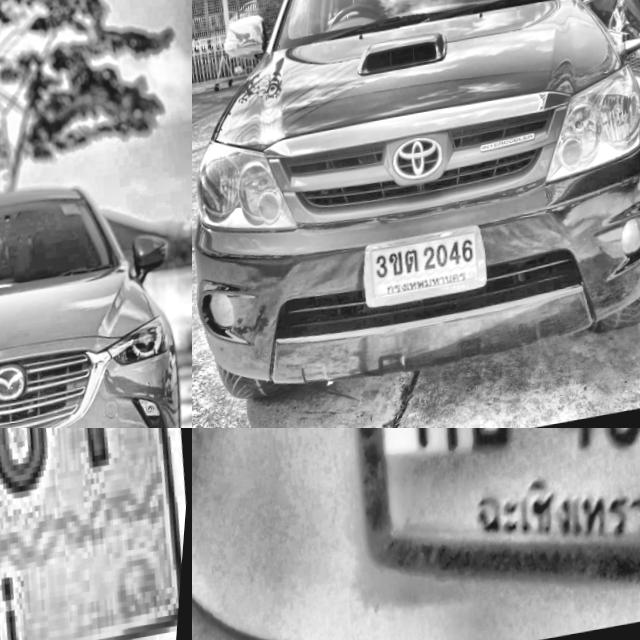license-plate: (0, 428, 192, 640), (388, 428, 640, 553), (364, 224, 500, 315)
